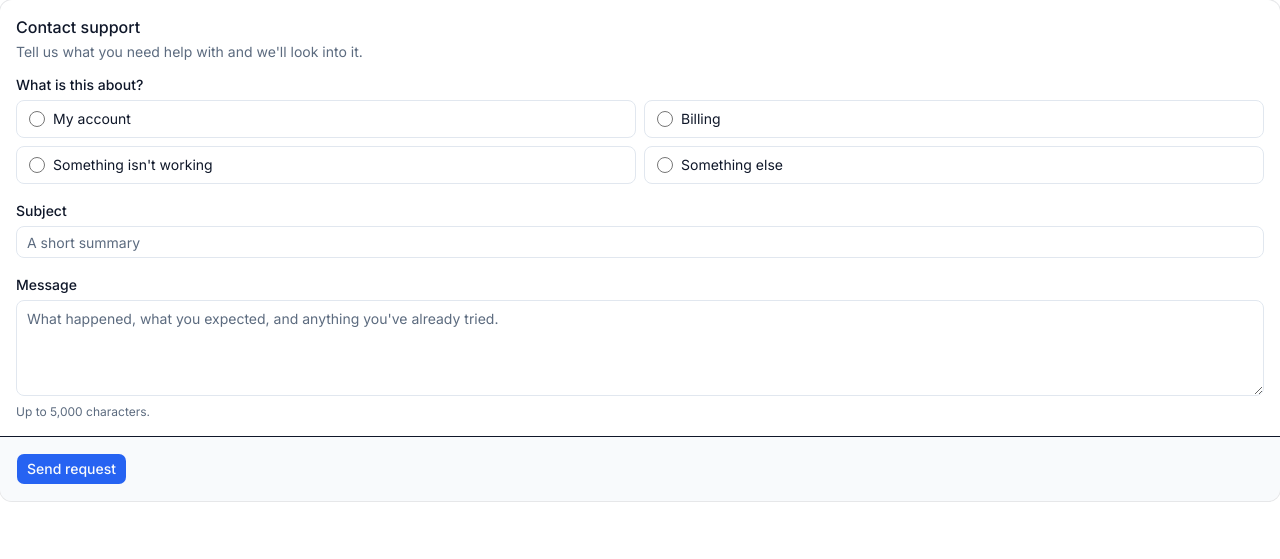
Test case: filing a support request › stores the trimmed request as the user, confirms it and clears the form
The image size is (1280, 559).
Click the radio button labelled "Something isn't working". click: (37, 165)
box: [29,157,45,173]
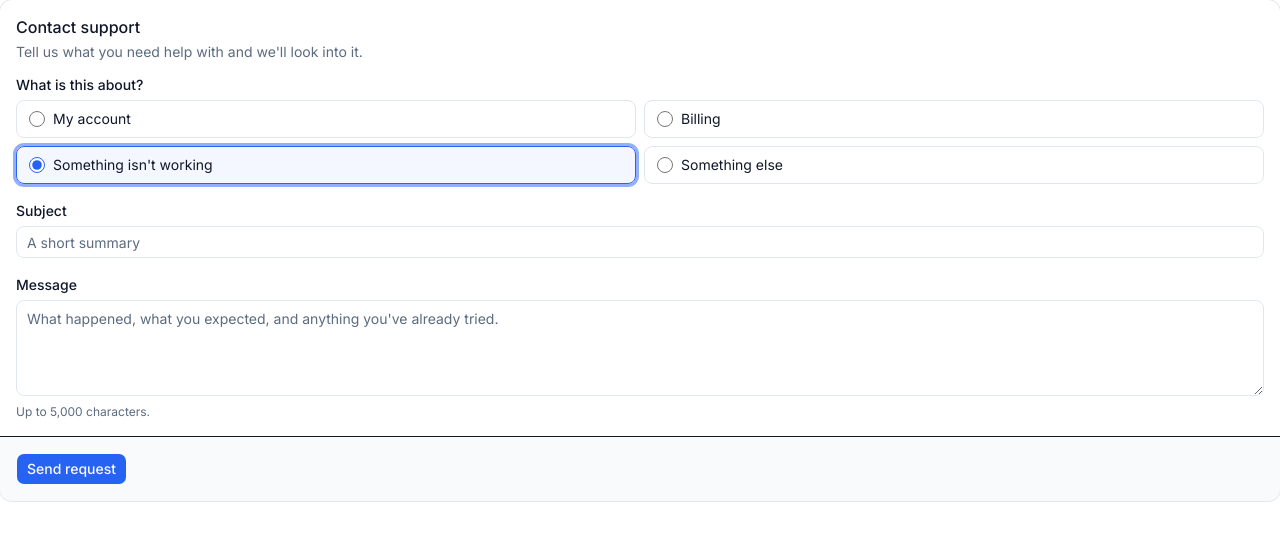
Type "  Export stuck " into the field labelled "Subject". click: (640, 242)
box: [16,226,1264,258]
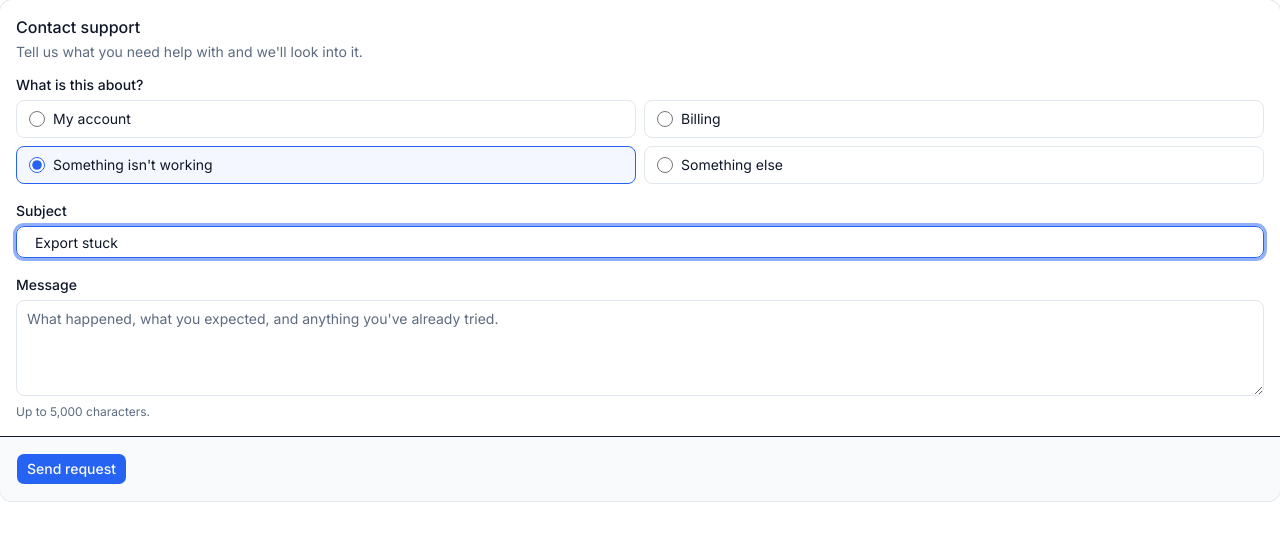
Type "Since 9am." into the text box labelled "Message". click: (640, 348)
box: [16,300,1264,396]
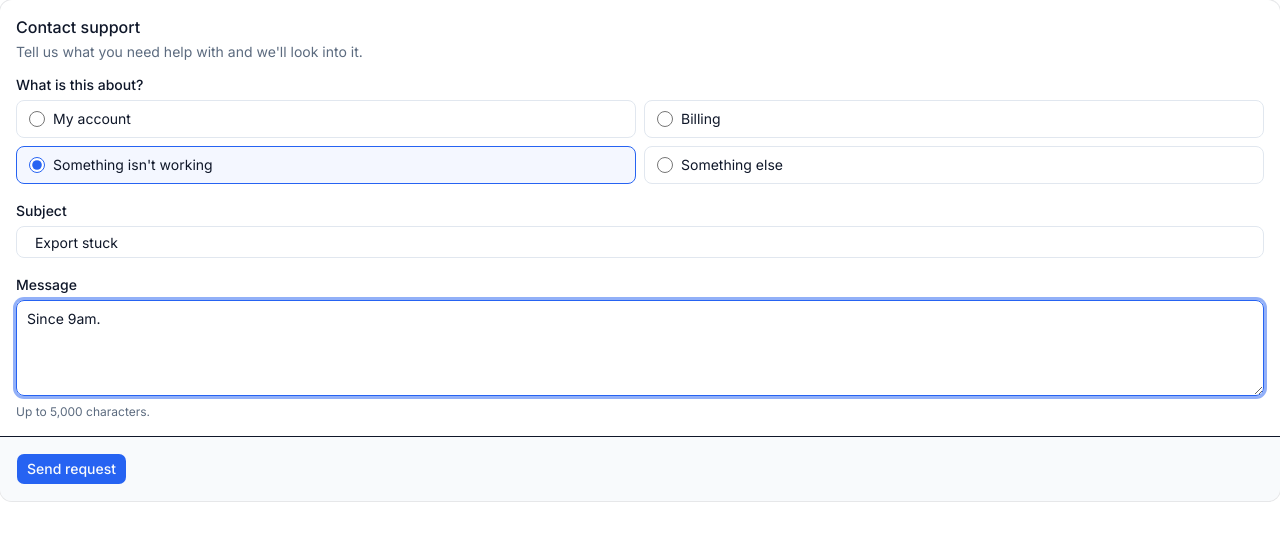
Click the button "Send request". click: (72, 469)
box: [16,453,127,485]
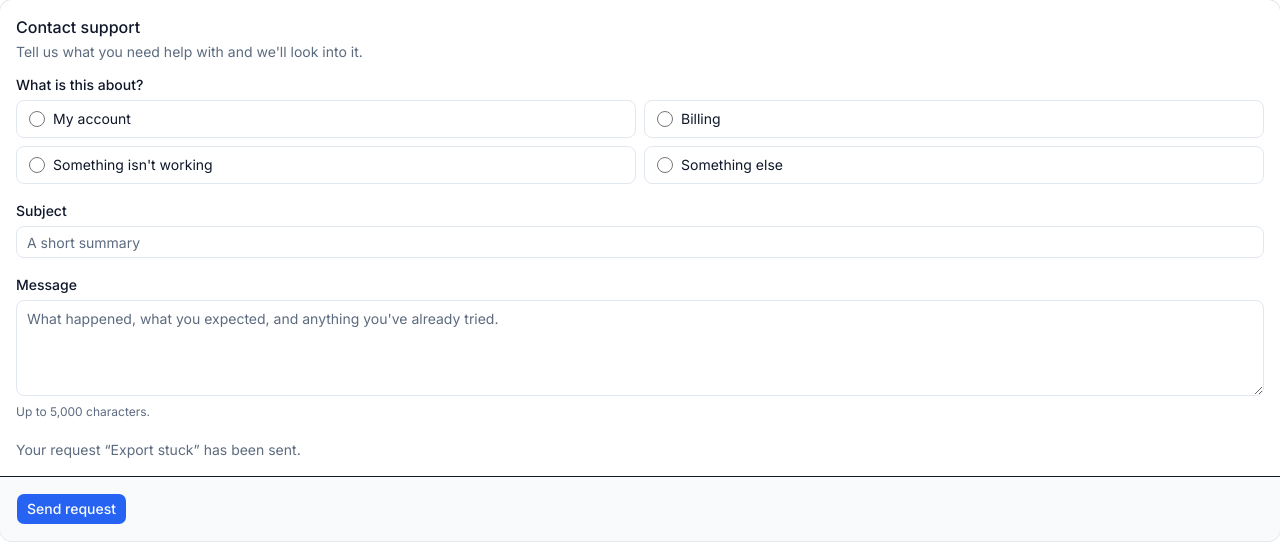
Now the radio button labelled "Something isn't working" is not checked, box [29,157,45,173]
Now the field labelled "Subject" is empty, box [16,226,1264,258]
Now the text box labelled "Message" is empty, box [16,300,1264,396]
